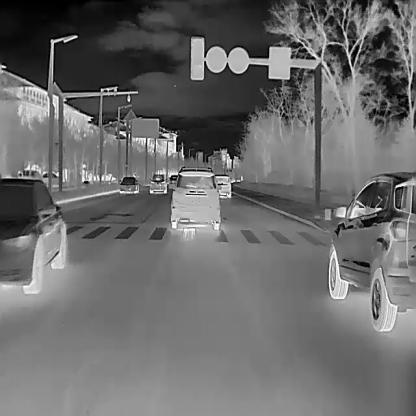car: (328, 172, 416, 331), (0, 177, 66, 293), (170, 165, 220, 229), (214, 173, 231, 197), (149, 172, 167, 192), (119, 175, 138, 193), (42, 172, 59, 185), (18, 168, 42, 177), (168, 173, 178, 187)
